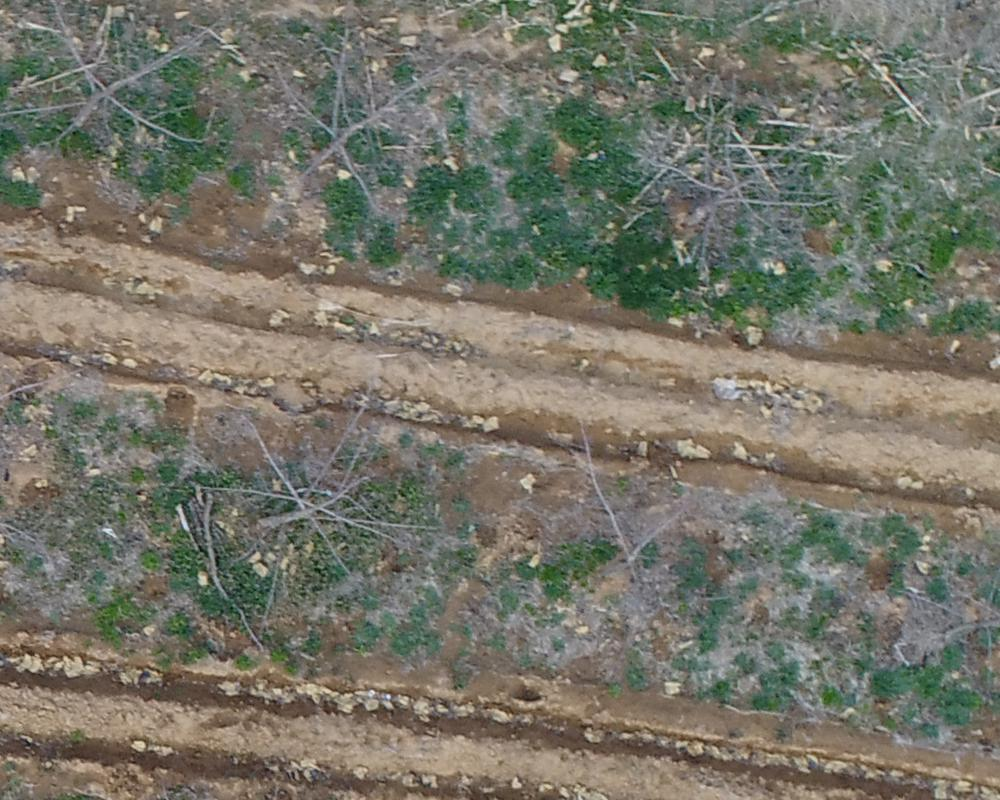apple: (183, 387, 445, 623), (257, 10, 462, 233), (611, 94, 829, 295), (10, 10, 236, 173), (545, 422, 707, 606), (871, 529, 990, 699)
